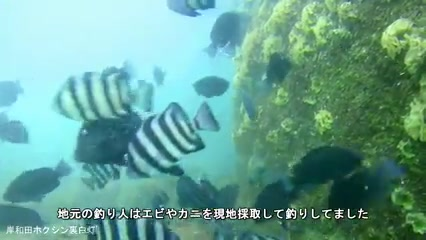ishidai: (129, 100, 224, 179), (47, 72, 159, 123)
